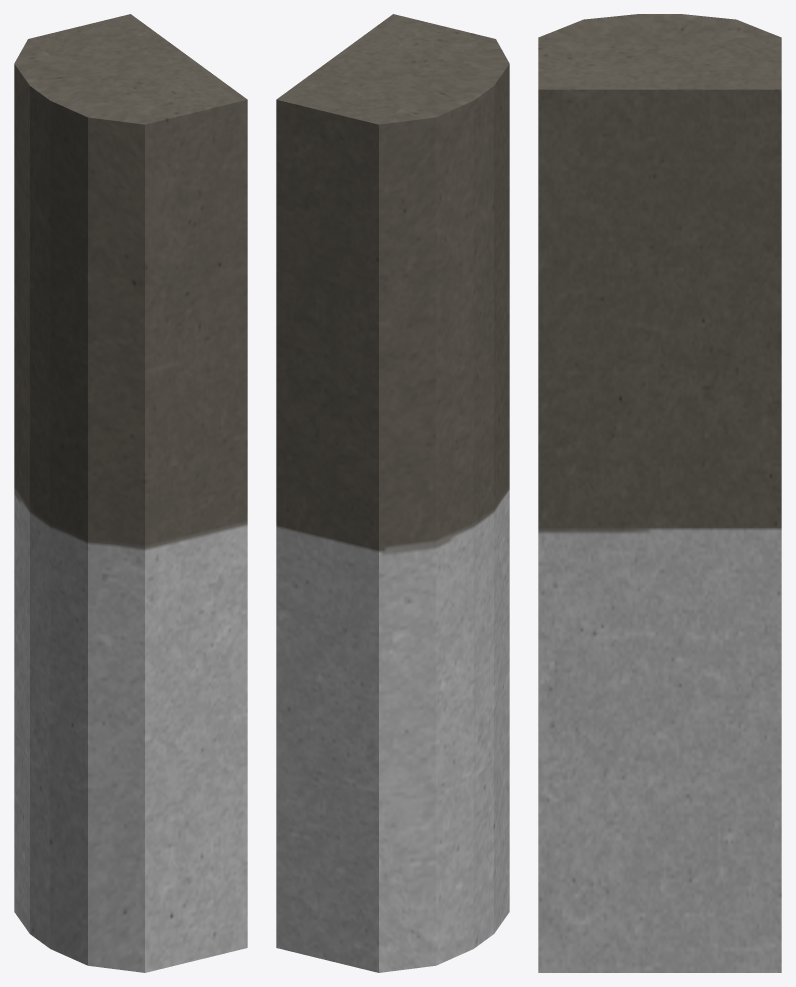
The model's file is Lab_Column.fbx.
3 views of the same model, side by side, from view 1: azimuth 30°, elevation 25°; view 2: azimuth 150°, elevation 25°; view 3: azimuth 270°, elevation 25° (orthographic). The views are drawn at different scales.
Parts seen in each view (by area): view 1: pCube52; view 2: pCube52; view 3: pCube52.
Boxes of the visible parts, <box> form: pCube52: <box>14,14,247,972</box>; pCube52: <box>276,14,509,972</box>; pCube52: <box>538,14,781,972</box>.
Bounding box in the file's own units: 0.7358 × 4 × 1.
